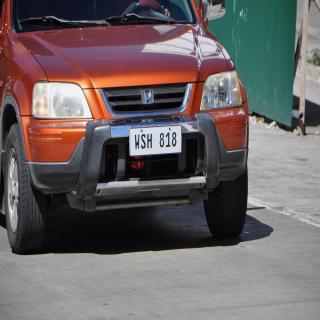license: (130, 126, 183, 157)
